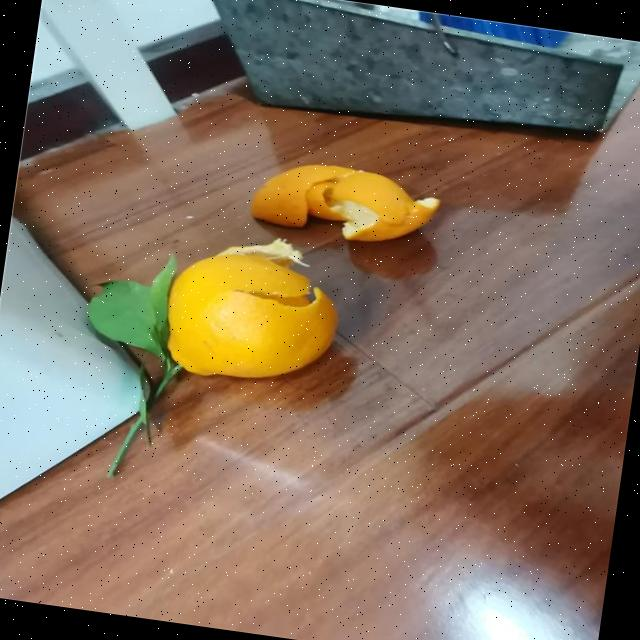orange-peel: (157, 242, 346, 393)
